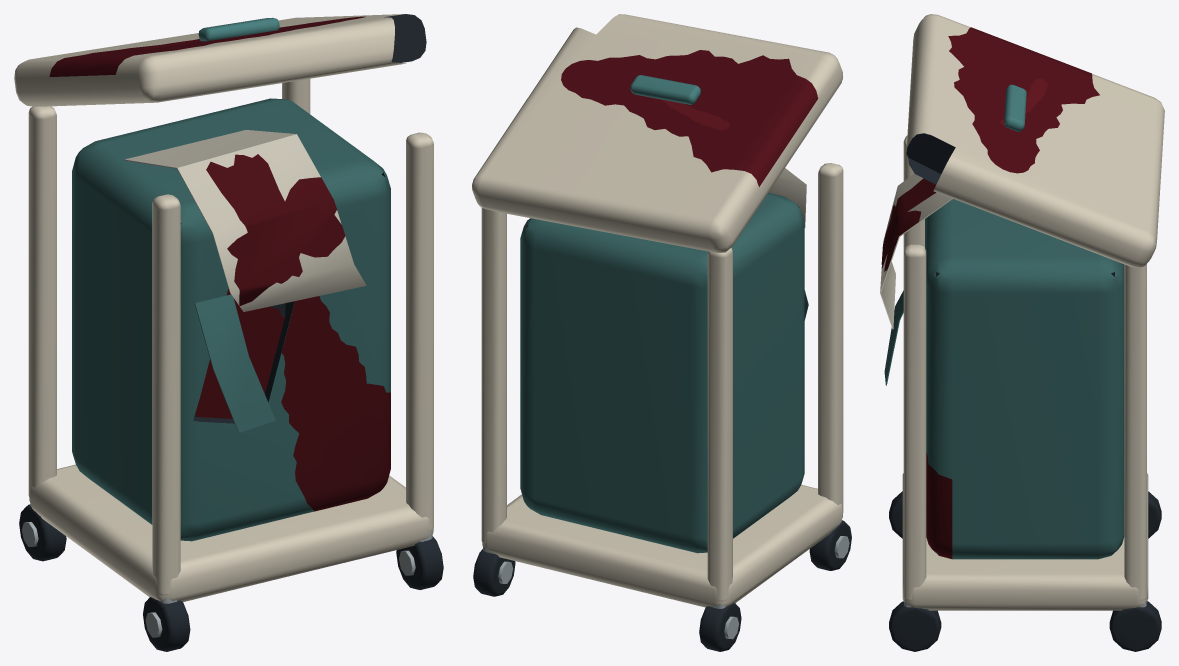
The model's file is laundry_hamper.glb.
3 views of the same model, side by side, from view 1: azimuth 30°, elevation 25°; view 2: azimuth 150°, elevation 25°; view 3: azimuth 270°, elevation 25° (orthographic). The views are drawn at different scales.
Parts seen in each view (by area): view 1: Outbreak_Utility_Laundry_Hamper_Static; view 2: Outbreak_Utility_Laundry_Hamper_Static; view 3: Outbreak_Utility_Laundry_Hamper_Static.
Boxes of the visible parts, x1=… form: Outbreak_Utility_Laundry_Hamper_Static: x1=14, y1=14, x2=443, y2=651; Outbreak_Utility_Laundry_Hamper_Static: x1=472, y1=14, x2=851, y2=651; Outbreak_Utility_Laundry_Hamper_Static: x1=880, y1=14, x2=1164, y2=651.
Bounding box in the file's own units: 0.6002 × 1.15 × 0.5682.
